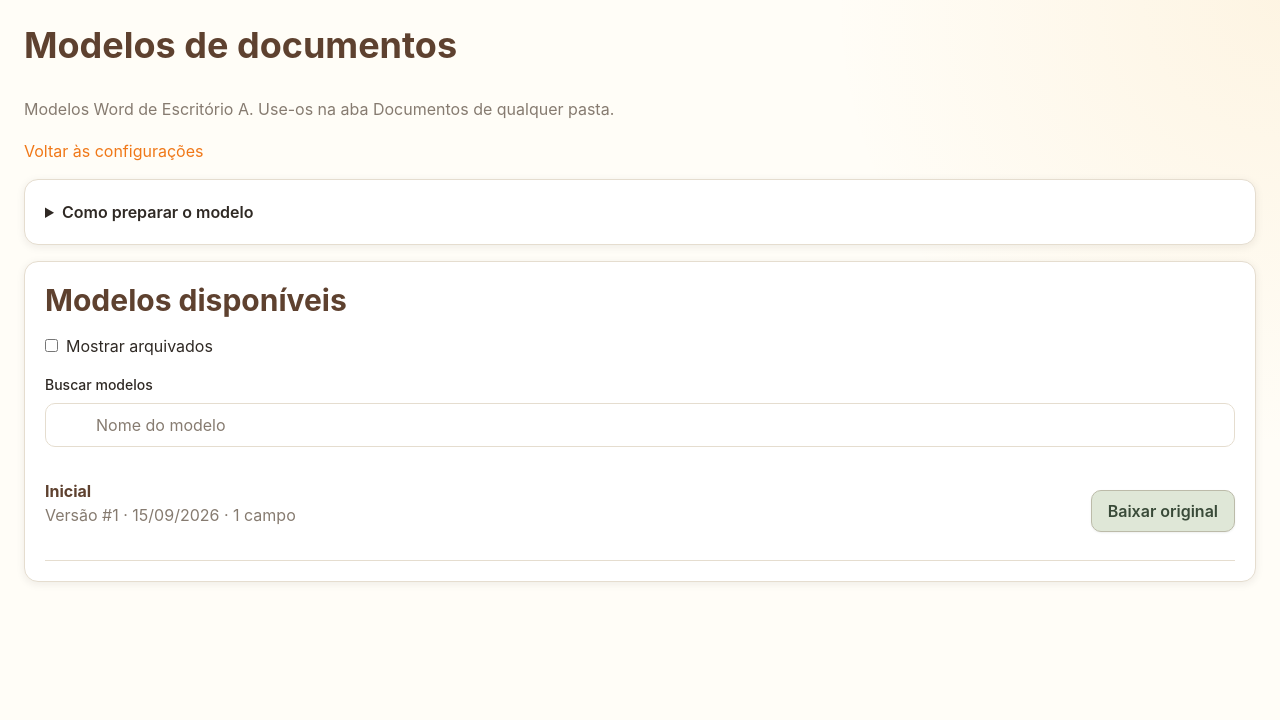
Test case: Modelos Word em Configurações › allows readers to search and download but not import
The width and height of the screenshot is (1280, 720).
Check: the button "Baixar original" is shown, box [1091, 490, 1235, 532]
Type "inexistente" into the field with id "template-search" at coordinates (656, 425), box [94, 412, 1218, 438]
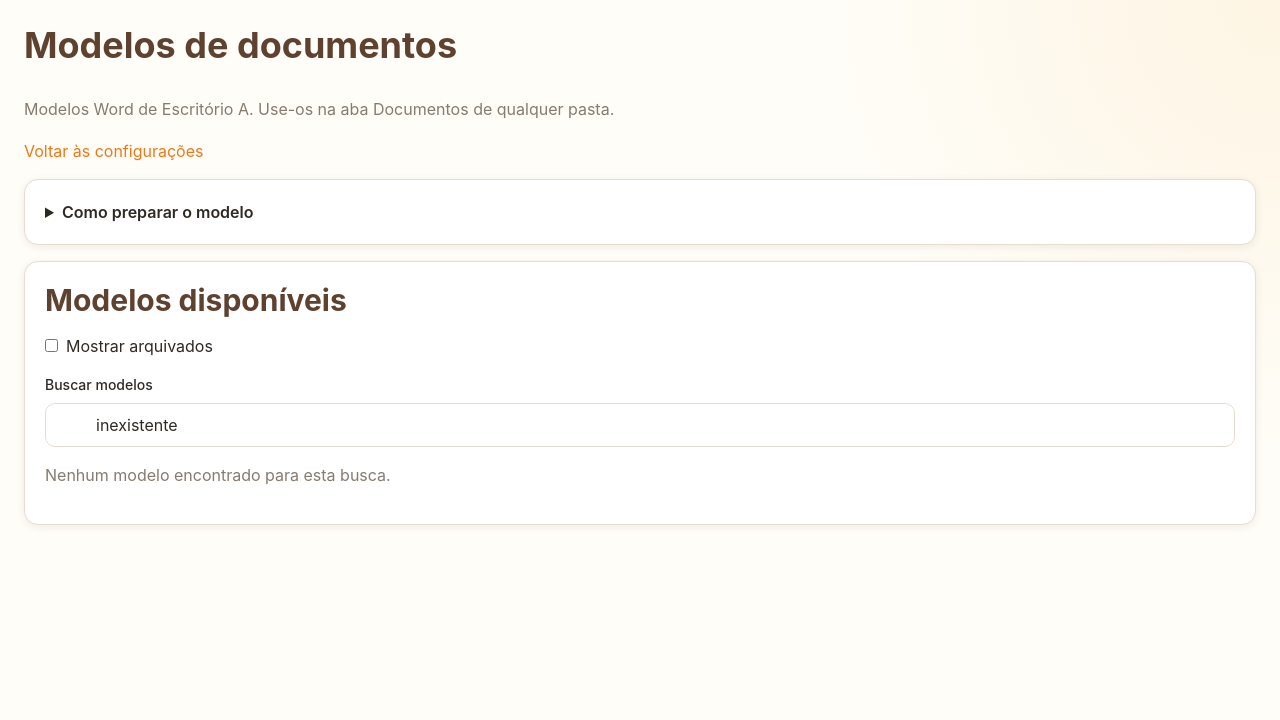
Check: the text "Nenhum modelo encontrado" is shown, box [45, 465, 391, 485]
